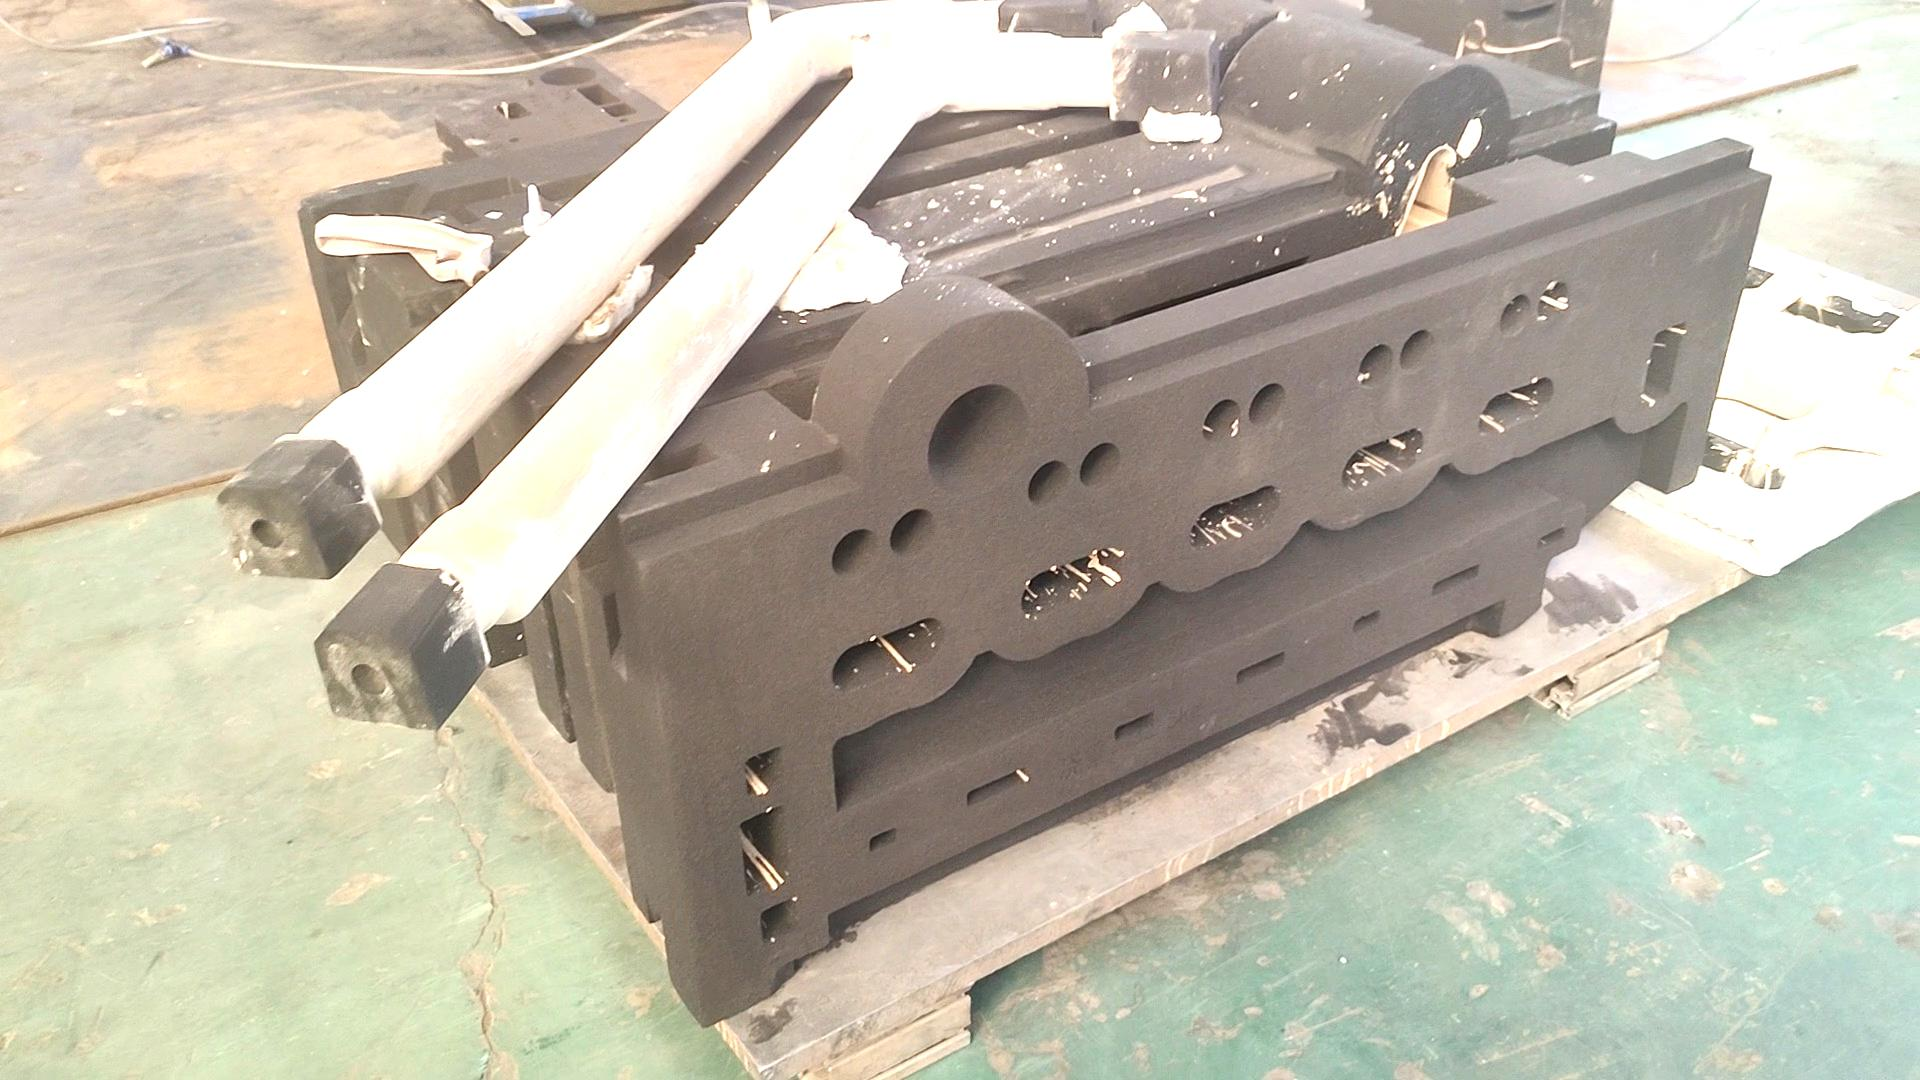pouring hole: (926, 382, 1033, 498), (539, 65, 595, 87)
